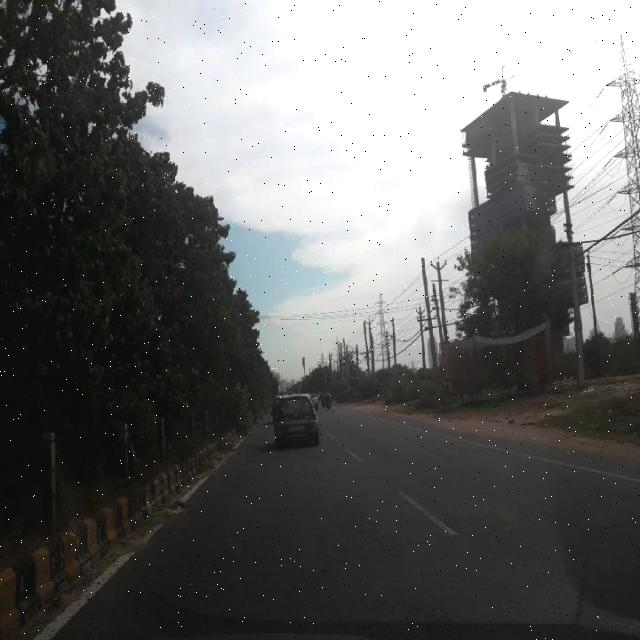D20: (409, 477, 632, 626), (100, 451, 266, 629), (297, 452, 395, 628)
D44: (402, 424, 517, 454)
